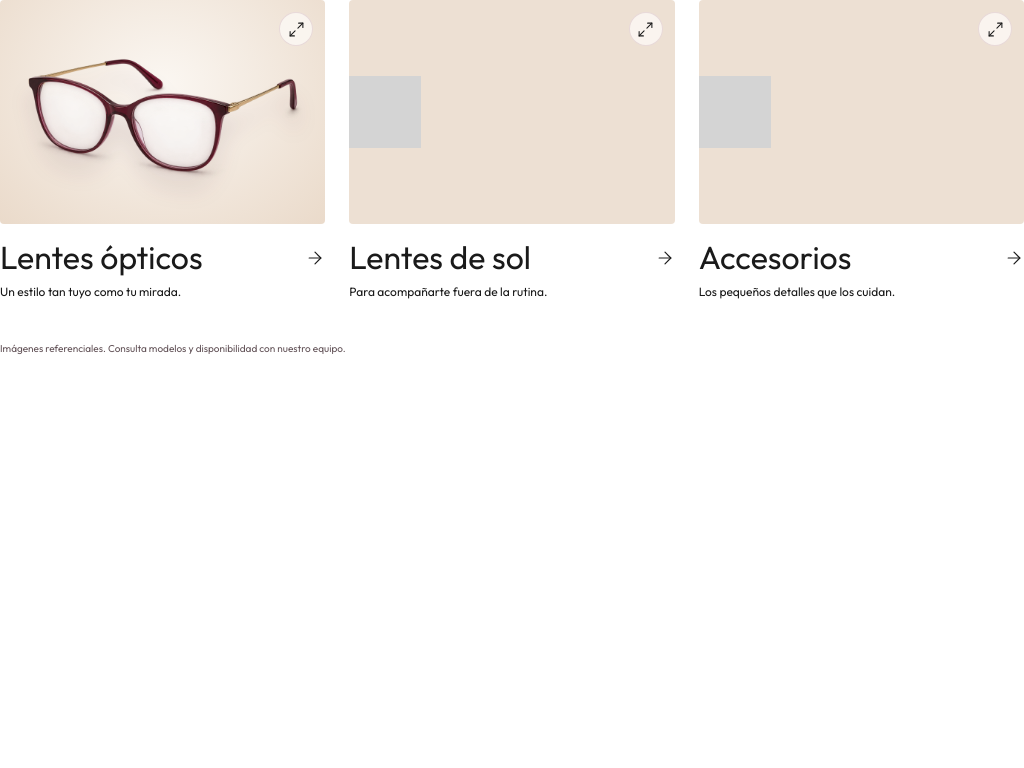
Test: CollectionGallery › restaura el scroll al cerrar
Click the button named "Ampliar imagen de accesorios".
click(735, 112)  # box [699, 0, 1023, 224]
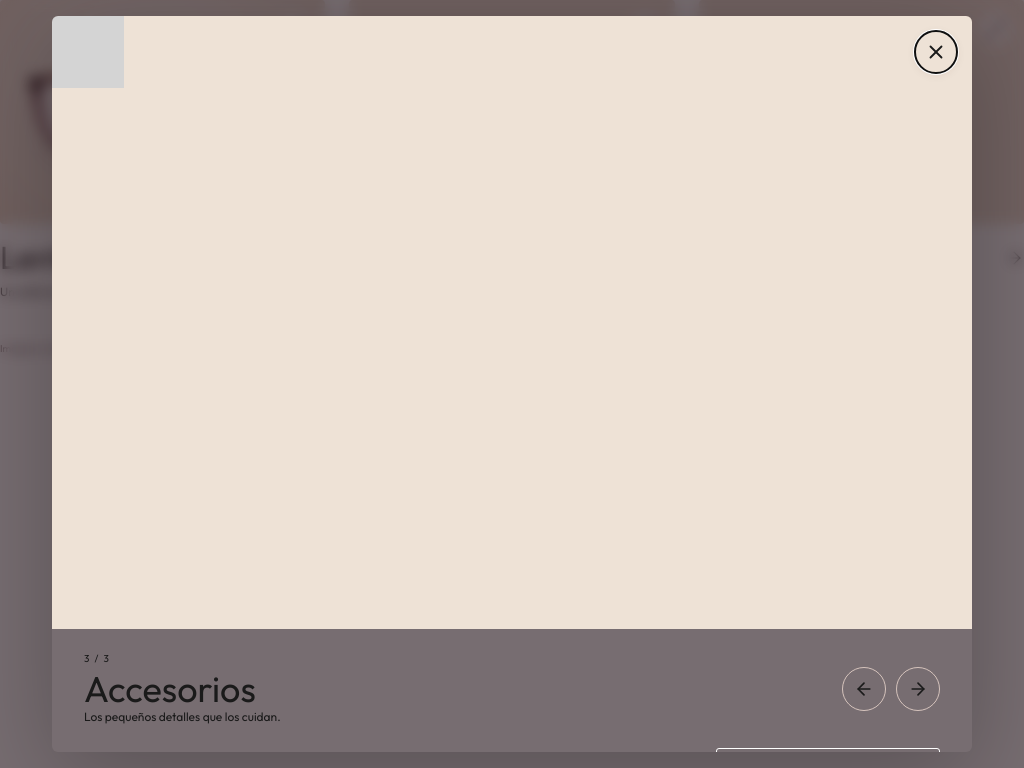
Click the button named "Cerrar galería".
click(936, 52)  # box [914, 30, 958, 74]
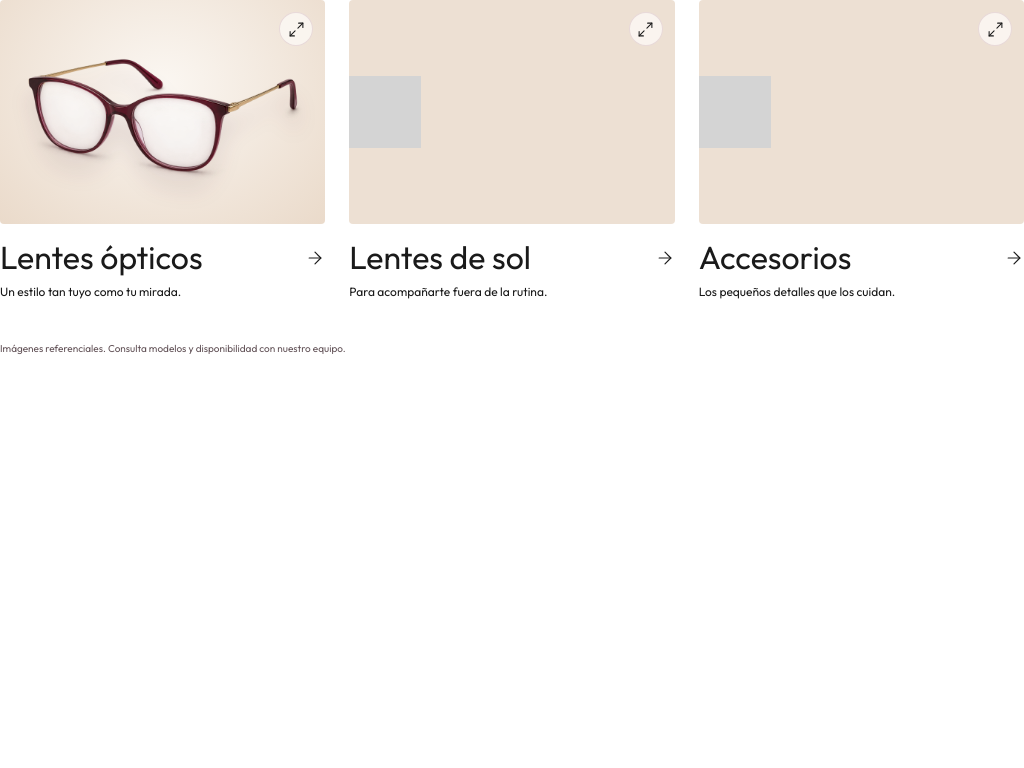
Expected: the dialog is gone
